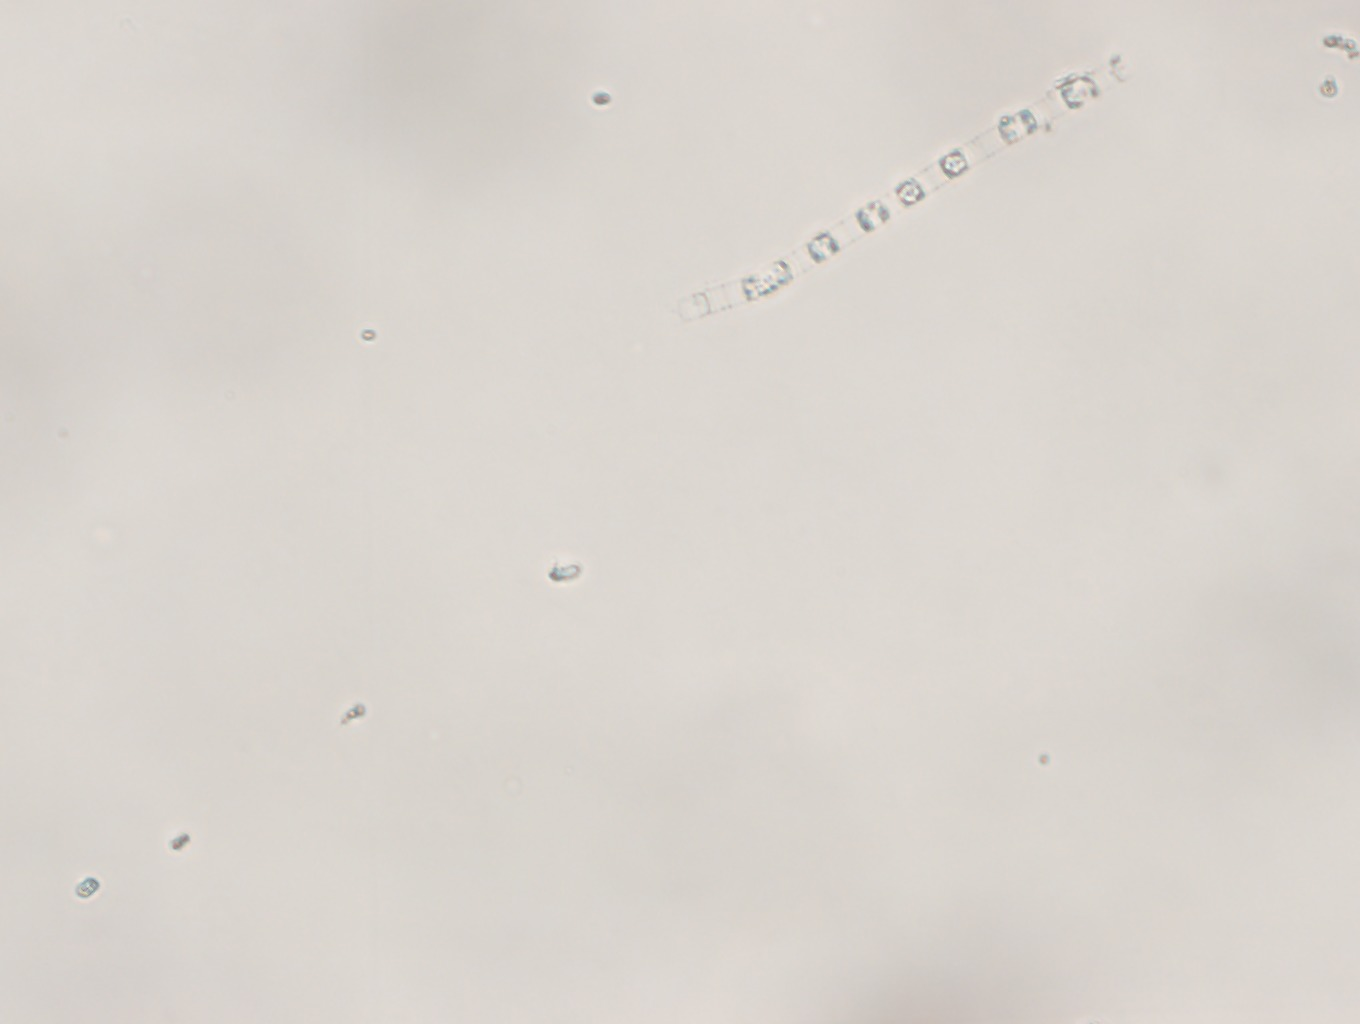skeletonema: (670, 49, 1183, 341)
